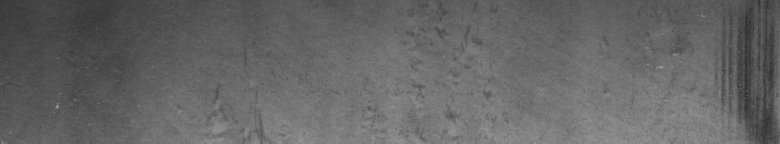ka: (647, 4, 776, 132)
